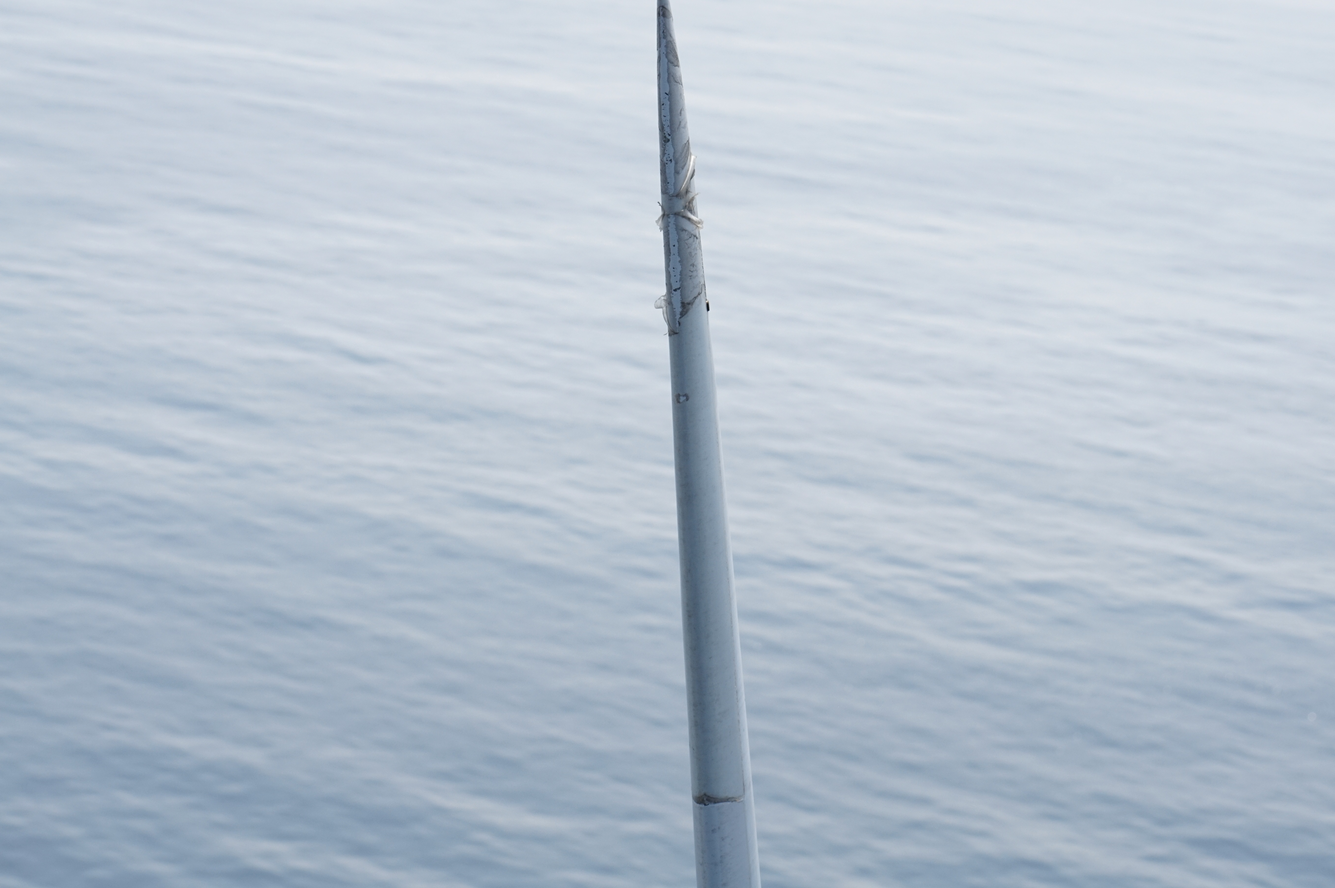Damage: (659, 157, 705, 335)
